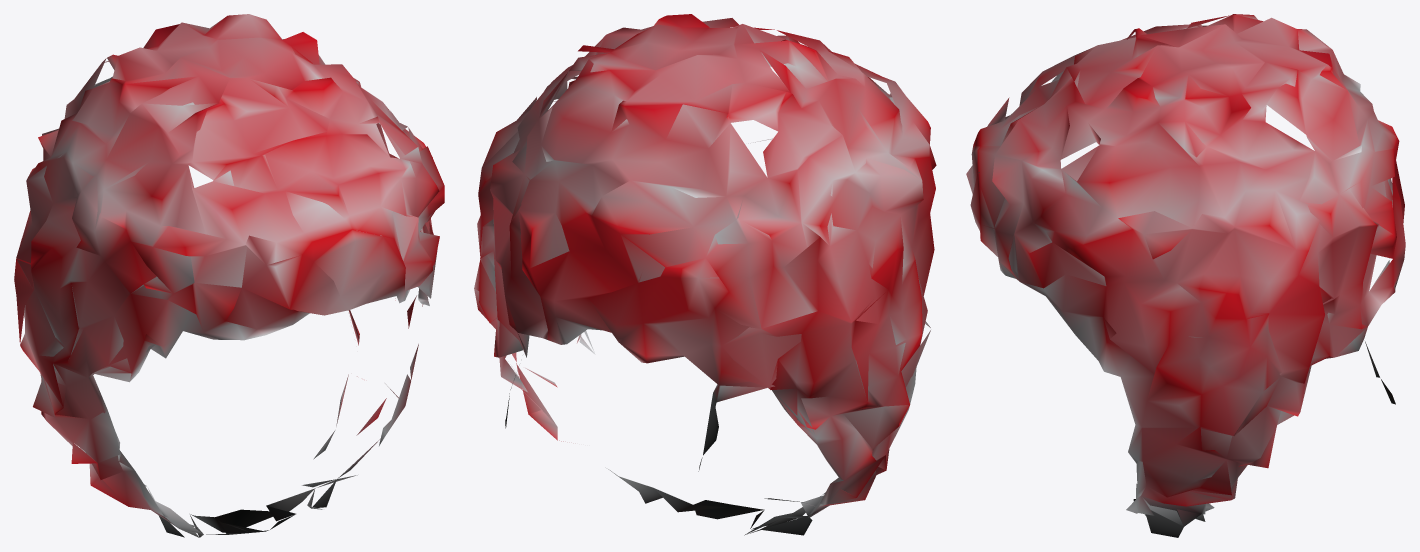
The model's file is casque-rouge.glb.
3 views of the same model, side by side, from view 1: azimuth 30°, elevation 25°; view 2: azimuth 150°, elevation 25°; view 3: azimuth 270°, elevation 25° (orthographic). The views are drawn at different scales.
Parts seen in each view (by area): view 1: casque-rouge; view 2: casque-rouge; view 3: casque-rouge.
Boxes of the visible parts, left/top/right/bottom form: casque-rouge: left=14, top=14, right=444, bottom=537; casque-rouge: left=474, top=14, right=936, bottom=535; casque-rouge: left=966, top=14, right=1405, bottom=537.
Bounding box in the file's own units: 0.8427 × 1 × 0.8444.
